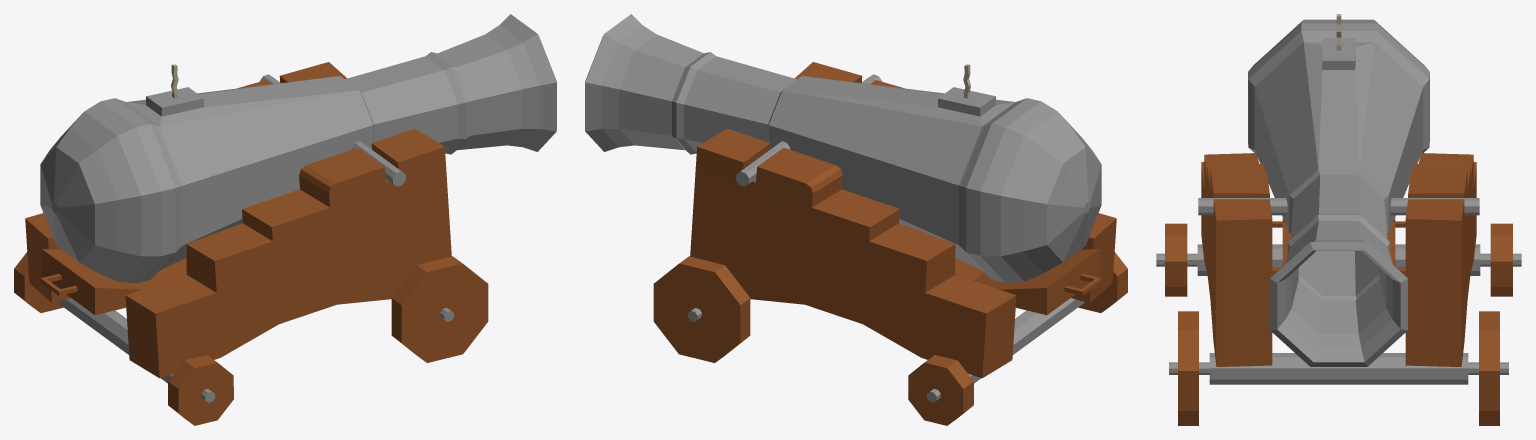
File: pirateCannon.fbx
The picture shows the model from 3 angles, left to right: view 1: azimuth 30°, elevation 25°; view 2: azimuth 150°, elevation 25°; view 3: azimuth 270°, elevation 25°; orthographic projection. The views are drawn at different scales.
Visible parts, largest first — view 1: Cylinder.004; view 2: Cylinder.004; view 3: Cylinder.004.
Part boxes in pixels (<box>): Cylinder.004: <box>14,14,556,425</box>; Cylinder.004: <box>585,14,1127,425</box>; Cylinder.004: <box>1156,14,1521,425</box>.
Bounding box in the file's own units: 1301 × 743 × 814.
